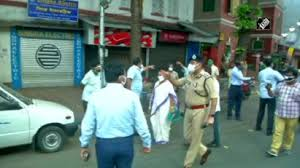mask: (187, 53, 204, 77), (90, 57, 102, 78), (156, 61, 169, 80), (283, 64, 296, 83), (134, 55, 146, 74), (234, 59, 243, 72)
